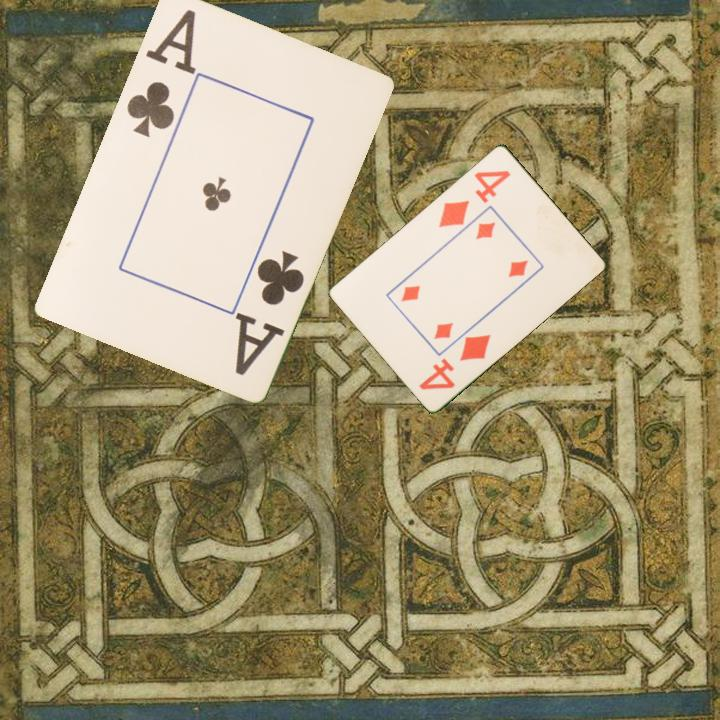4d: (435, 166, 513, 230), (415, 330, 494, 393)
Ac: (122, 5, 199, 140), (231, 246, 307, 378)
